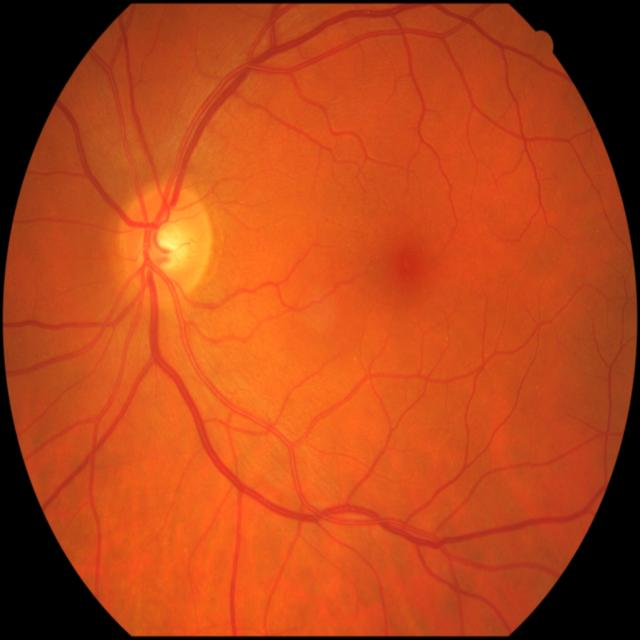OC: (150, 222, 188, 270)
OD: (114, 184, 212, 299)
